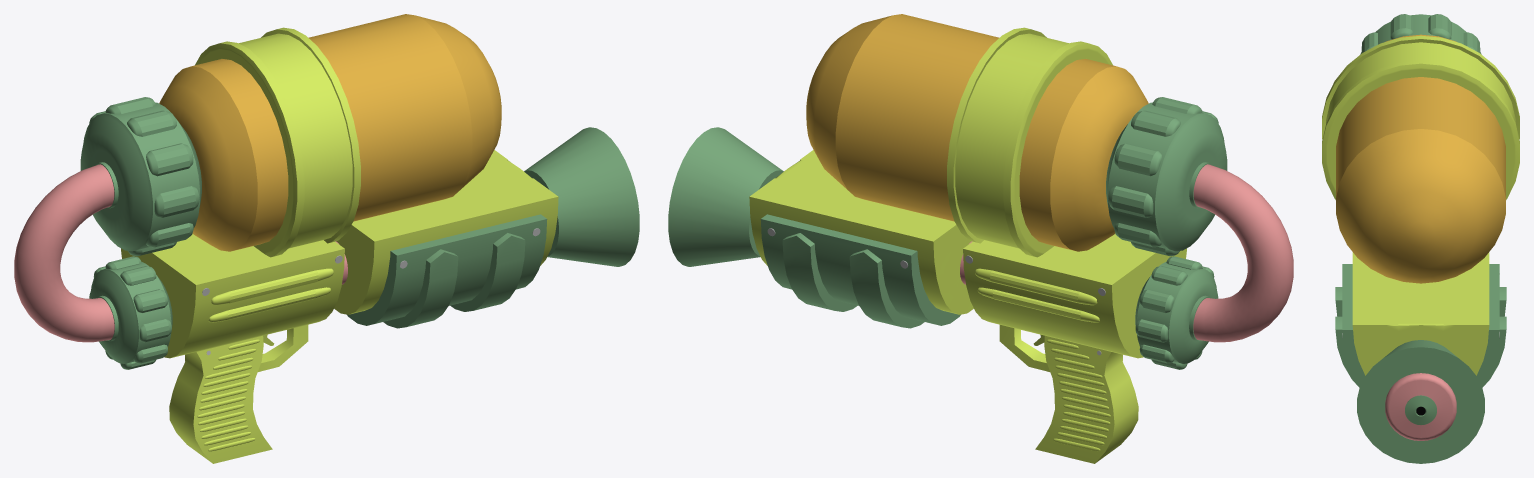
File: Markypins-Splattershot.fbx.fbx
3 views of the same model, side by side, from view 1: azimuth 30°, elevation 25°; view 2: azimuth 150°, elevation 25°; view 3: azimuth 270°, elevation 25° (orthographic). The views are drawn at different scales.
Visible parts, largest first — view 1: Bottle, Lock, Body_1, Ring (×2), Body_2, Chimney, Barrel, Body_3, Grip, S2, S1, S6 (+7 smaller); view 2: Bottle, Lock, Body_1, Ring (×2), Body_2, Chimney, Barrel, Body_3, Grip, S2, S1, S4 (+7 smaller); view 3: Bottle, Chimney, Body_2, Lock, Body_3, S1, Ring, Pill18, Pill17, S2, Pill16, Pill19.
Boxes of the visible parts, x1,y1,x2,y2 form: Bottle: [159, 14, 501, 251]; Lock: [195, 27, 360, 257]; Body_1: [121, 233, 344, 358]; Ring (×2): [80, 102, 201, 363]; Body_2: [334, 150, 558, 314]; Chimney: [524, 127, 639, 266]; Barrel: [14, 164, 347, 342]; Body_3: [347, 214, 547, 325]; Grip: [169, 335, 272, 463]; S2: [383, 249, 458, 328]; S1: [450, 233, 525, 311]; S6: [211, 268, 333, 305]; Bottle: [806, 14, 1148, 251]; Lock: [947, 27, 1112, 257]; Body_1: [963, 233, 1186, 358]; Ring (×2): [1106, 102, 1227, 363]; Body_2: [749, 150, 973, 314]; Chimney: [668, 127, 783, 266]; Barrel: [960, 164, 1293, 342]; Body_3: [760, 214, 960, 325]; Grip: [1035, 335, 1138, 463]; S2: [849, 249, 924, 328]; S1: [782, 233, 857, 311]; S4: [975, 268, 1097, 305]; Bottle: [1336, 34, 1505, 283]; Chimney: [1357, 340, 1484, 463]; Body_2: [1352, 252, 1489, 375]; Lock: [1322, 35, 1519, 199]; Body_3: [1342, 264, 1499, 385]; S1: [1335, 316, 1506, 387]; Ring: [1360, 14, 1481, 54]; Pill18: [1390, 14, 1413, 39]; Pill17: [1428, 14, 1451, 39]; S2: [1335, 287, 1506, 316]; Pill16: [1463, 32, 1480, 52]; Pill19: [1361, 32, 1377, 52].
Bounding box in the file's own units: 9.6 × 6.01 × 3.05.
